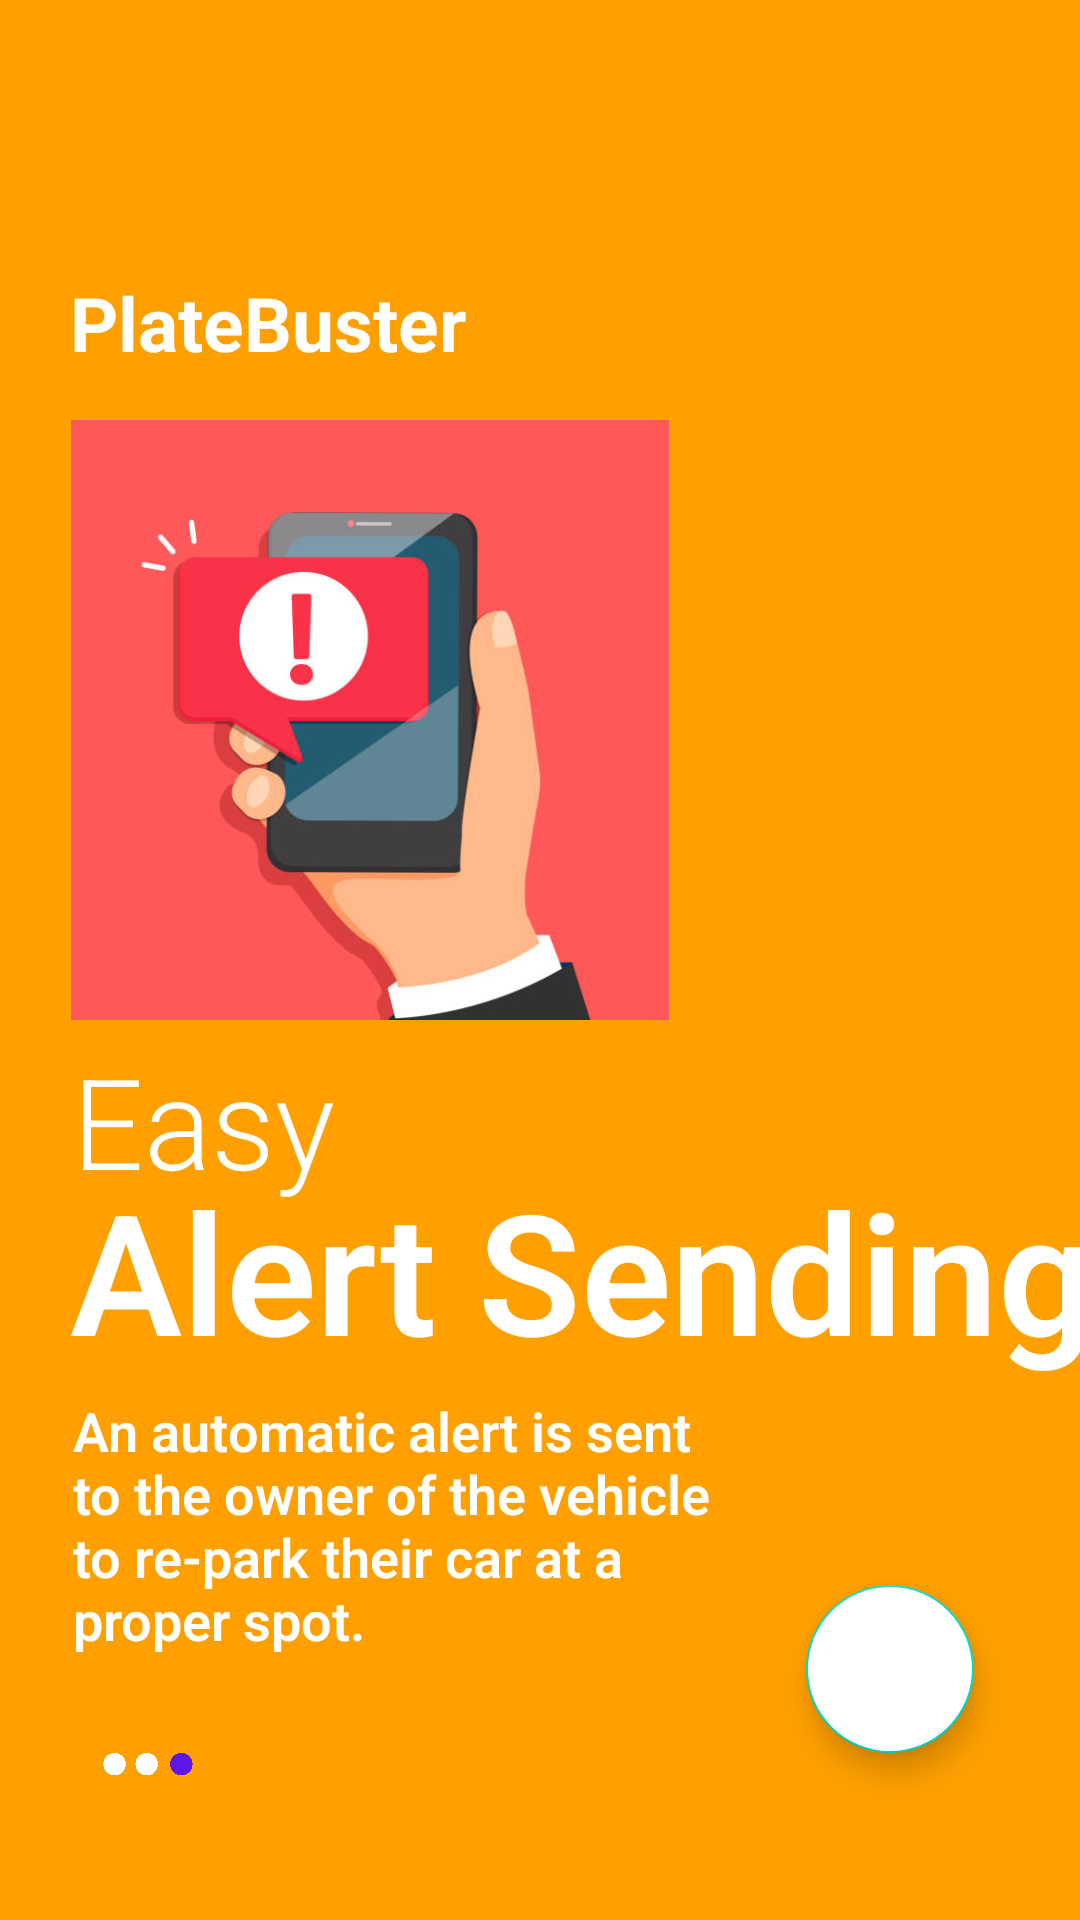

Where to tap for icons on this 1080px×1920px app screen, as [x,y]:
tab: [148,1764]
